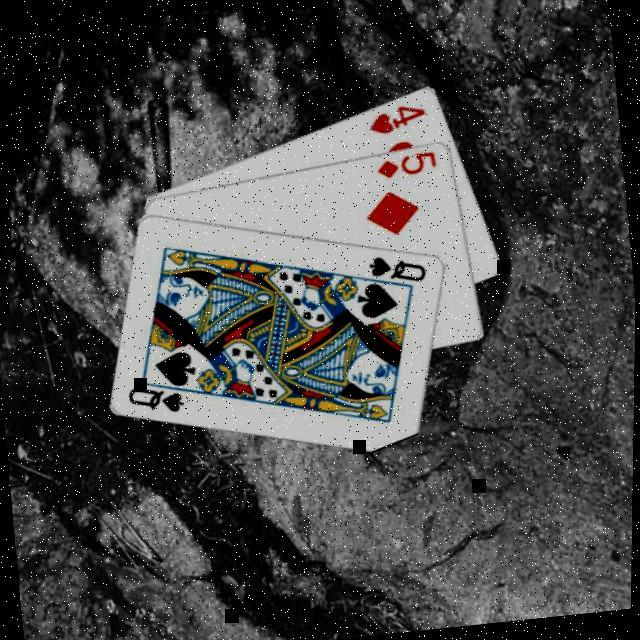4H: (363, 101, 428, 140)
5D: (372, 149, 439, 184)
QS: (364, 250, 429, 291), (124, 381, 187, 422)
